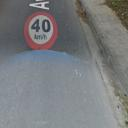speed_limit_40: (24, 11, 58, 51)
